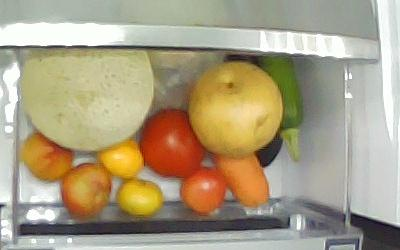carrot: (206, 147, 270, 207)
melon: (20, 47, 154, 150)
pear: (186, 59, 283, 156)
prune: (59, 161, 112, 218), (22, 130, 74, 180), (179, 167, 226, 213)
tangerine: (96, 138, 144, 178), (115, 177, 163, 216)
tomato: (138, 107, 206, 177)
zucchini: (257, 54, 303, 162)
